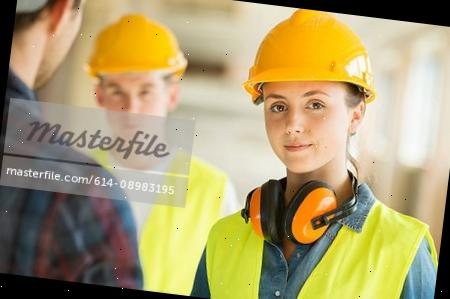helmet: (237, 1, 386, 108), (81, 8, 194, 89)
no_wear: (0, 105, 161, 288)
wear: (192, 175, 442, 299), (99, 144, 226, 298)
